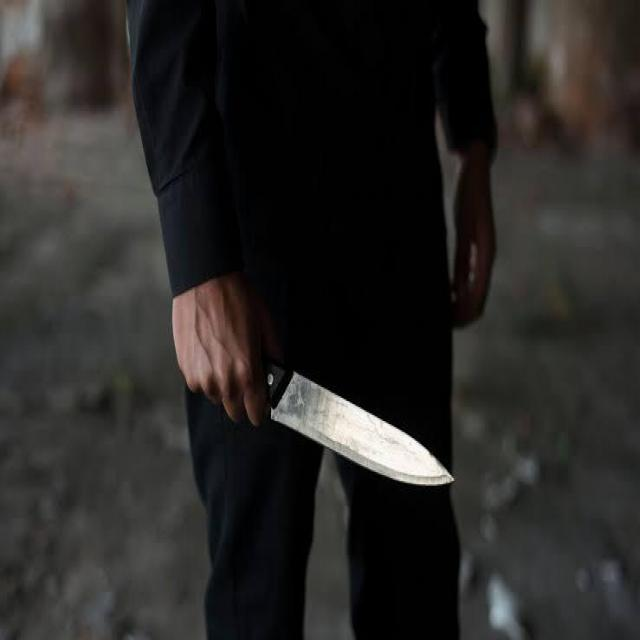knife: (257, 364, 454, 484)
